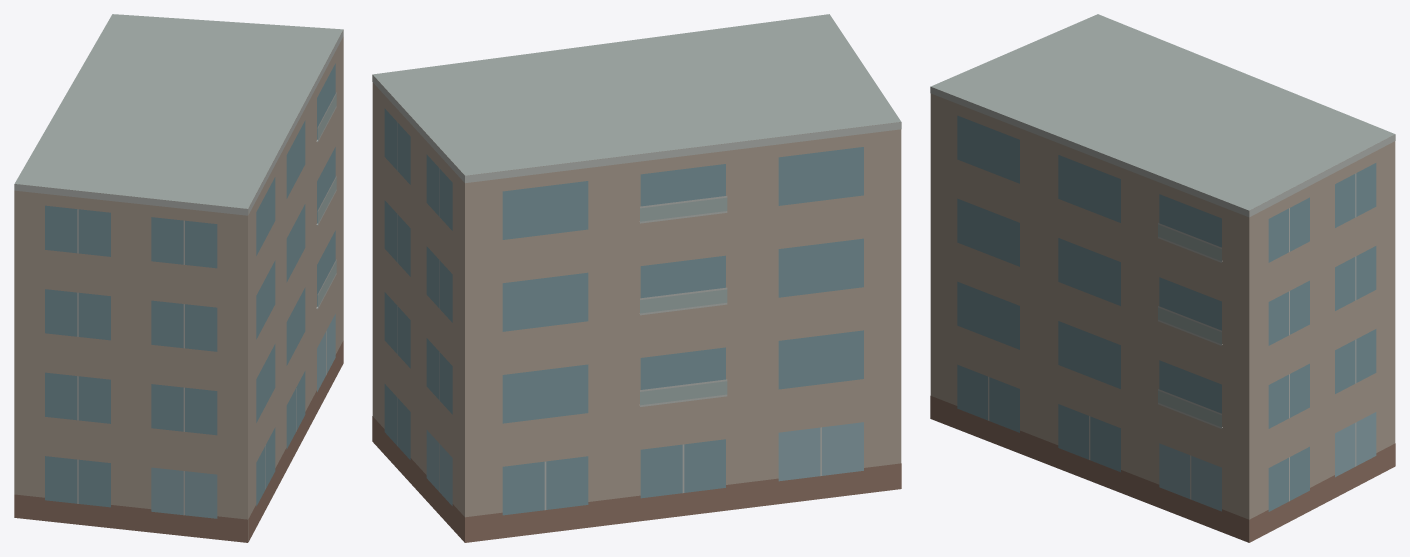
Rendered from survey-upis-32801348.glb.
The picture shows the model from 3 angles, left to right: view 1: azimuth 30°, elevation 25°; view 2: azimuth 150°, elevation 25°; view 3: azimuth 270°, elevation 25°; orthographic projection. The views are drawn at different scales.
Parts seen in each view (by area): view 1: survey-upis-32801348.tmp; view 2: survey-upis-32801348.tmp; view 3: survey-upis-32801348.tmp.
Part boxes in pixels (x1,y1,x2,y2): survey-upis-32801348.tmp: [14, 14, 343, 542]; survey-upis-32801348.tmp: [372, 14, 901, 542]; survey-upis-32801348.tmp: [930, 14, 1395, 542].
Bounding box in the file's own units: 15.24 × 12 × 15.23.
